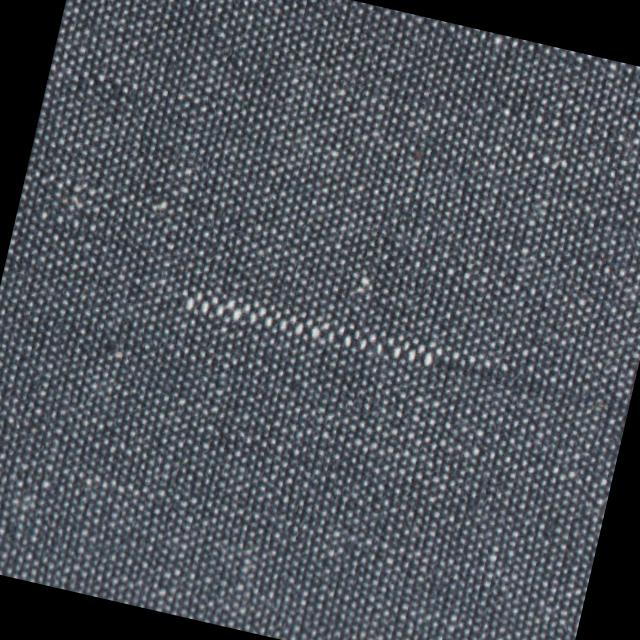Warp_Weft: (177, 278, 451, 378)
